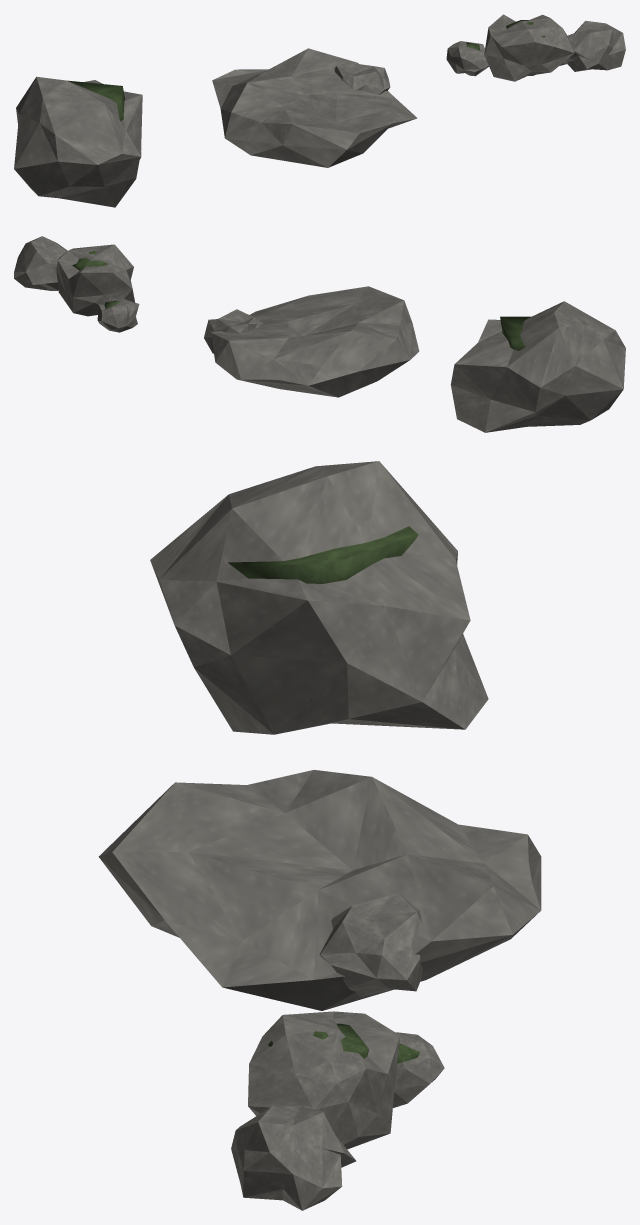
File: rock.glb
3 renders of one model, top to bottom at view 1: azimuth 30°, elevation 25°; view 2: azimuth 150°, elevation 25°; view 3: azimuth 270°, elevation 25°, orthographic. The views are drawn at different scales.
Parts seen in each view (by area): view 1: rock_v2, rock_v1, rock_v3; view 2: rock_v1, rock_v2, rock_v3; view 3: rock_v2, rock_v1, rock_v3.
Part boxes in pixels (bbox=[...]): rock_v2: bbox=[212, 48, 417, 167]; rock_v1: bbox=[14, 76, 142, 207]; rock_v3: bbox=[446, 14, 625, 81]; rock_v1: bbox=[450, 301, 625, 432]; rock_v2: bbox=[204, 286, 419, 397]; rock_v3: bbox=[14, 236, 139, 332]; rock_v2: bbox=[98, 770, 541, 1010]; rock_v1: bbox=[150, 461, 488, 734]; rock_v3: bbox=[231, 1011, 444, 1210].
Size of the model in its own units: 8.1 by 1.53 by 2.57.
2 materials, 2 textured.
